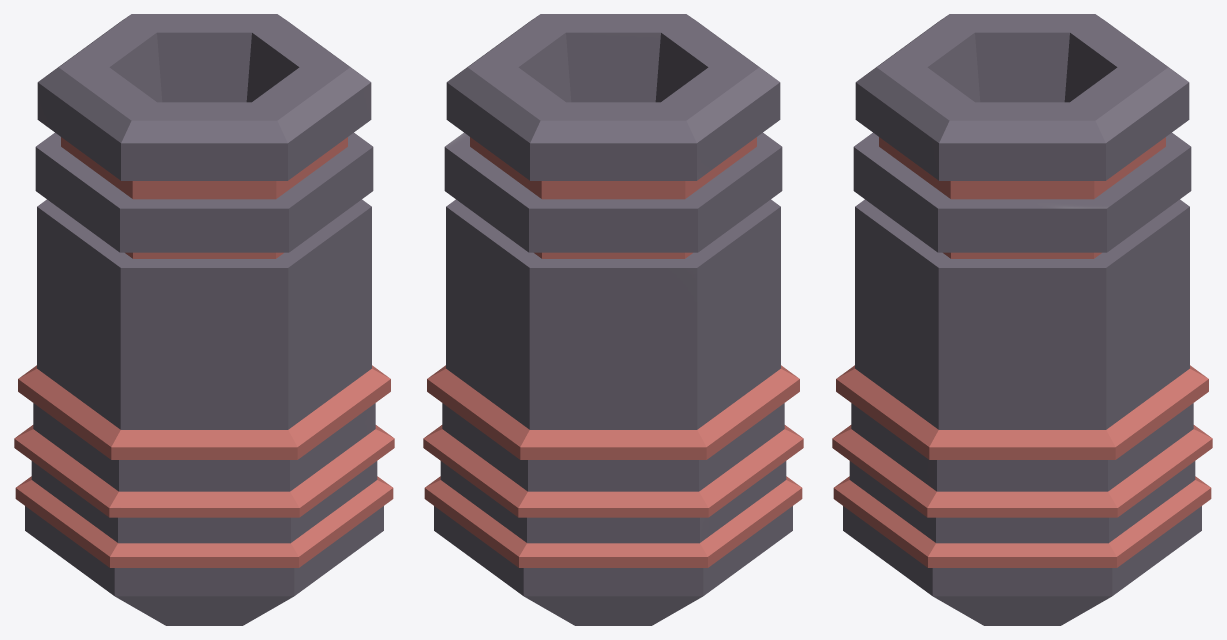
Rendered from blaster.fbx.
The picture shows the model from 3 angles, left to right: view 1: azimuth 30°, elevation 25°; view 2: azimuth 150°, elevation 25°; view 3: azimuth 270°, elevation 25°; orthographic projection.
Visible parts, largest first — view 1: Circle; view 2: Circle; view 3: Circle.
Part boxes in pixels (box(x1,y1,x2,y2)): Circle: box(14, 14, 394, 625); Circle: box(423, 14, 803, 625); Circle: box(832, 14, 1212, 625).
Size of the model in its own units: 160 by 185 by 284.
1 material, 1 textured.
